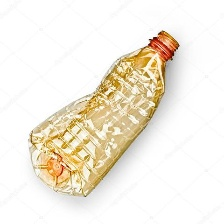bottle: (23, 27, 180, 201)
